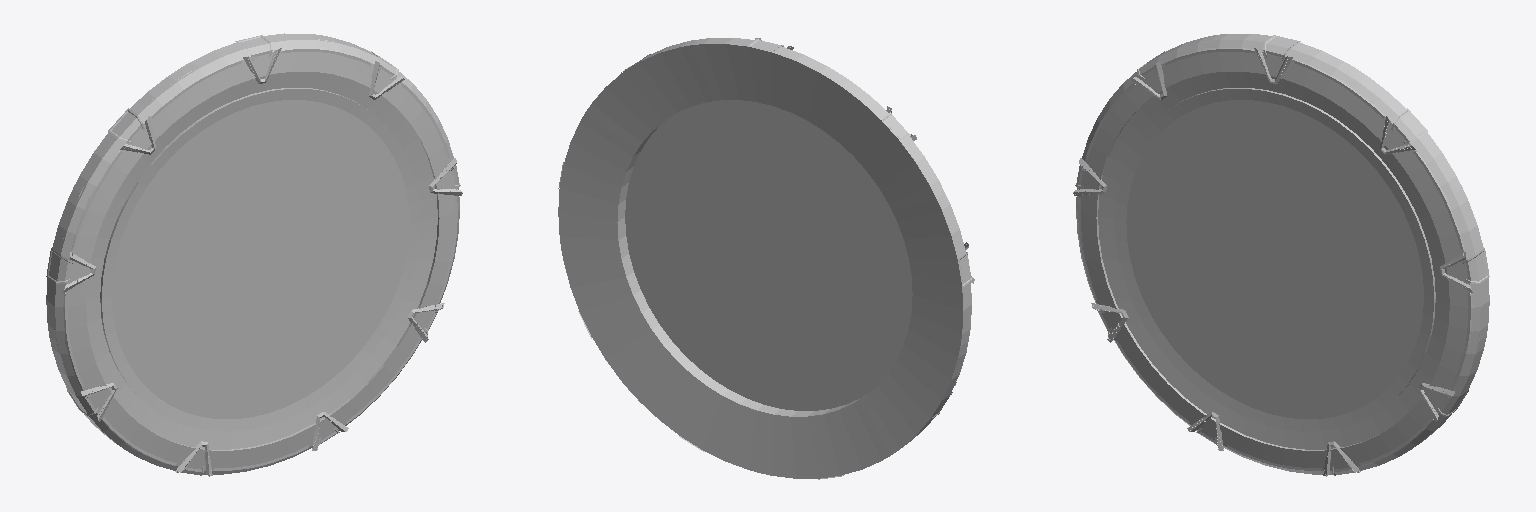
File: Stargate.obj
3 renders of one model, left to right at view 1: azimuth 30°, elevation 25°; view 2: azimuth 150°, elevation 25°; view 3: azimuth 330°, elevation 25°, orthographic.
Parts seen in each view (by area): view 1: Circle, Circle.001; view 2: Circle, Circle.001; view 3: Circle, Circle.001.
Boxes of the visible parts, x1,y1,x2,y2 form: Circle: [46, 34, 462, 476]; Circle.001: [46, 33, 459, 474]; Circle: [558, 38, 974, 479]; Circle.001: [558, 38, 971, 478]; Circle: [1073, 34, 1489, 476]; Circle.001: [1076, 34, 1489, 474].
Size of the model in its own units: 7.17 by 7.17 by 0.4611.